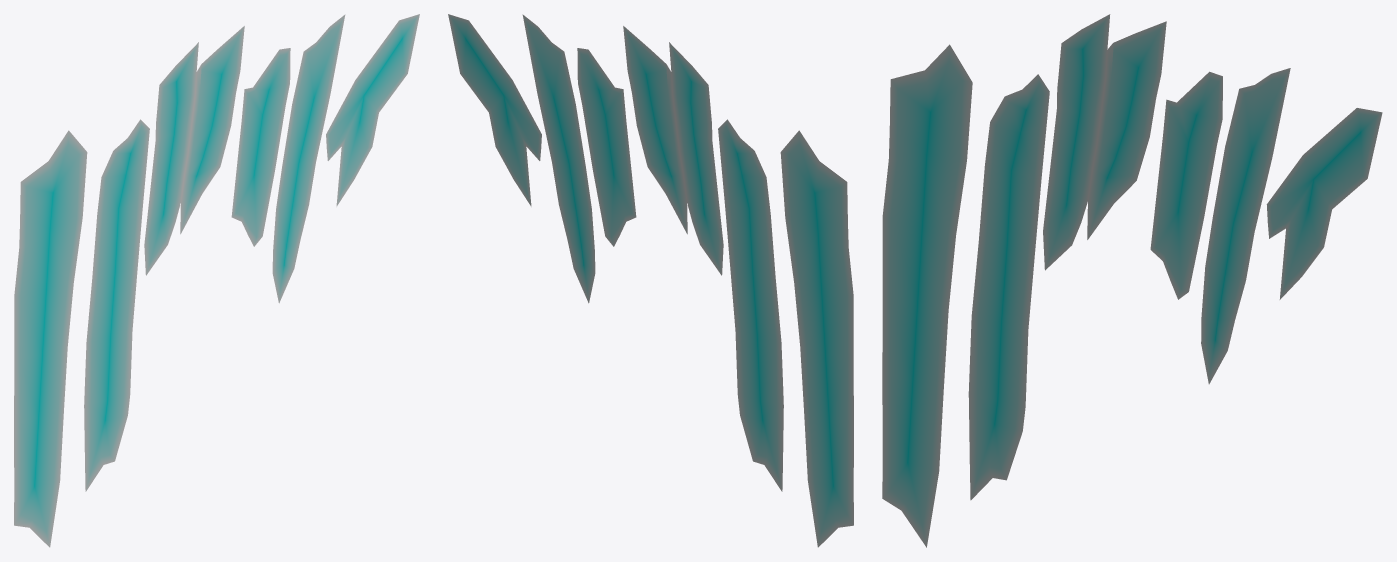
File: SM_EFF_Text_D35NJ2_02.glb
3 views of the same model, side by side, from view 1: azimuth 30°, elevation 25°; view 2: azimuth 150°, elevation 25°; view 3: azimuth 330°, elevation 25° (orthographic). The views are drawn at different scales.
Visible parts, largest first — view 1: SM_EFF_Text_D35NJ2_02; view 2: SM_EFF_Text_D35NJ2_02; view 3: SM_EFF_Text_D35NJ2_02.
Boxes of the visible parts, <box> form: SM_EFF_Text_D35NJ2_02: <box>14,14,419,547</box>; SM_EFF_Text_D35NJ2_02: <box>448,14,853,547</box>; SM_EFF_Text_D35NJ2_02: <box>882,14,1382,547</box>.
Size of the model in its own units: 2.65 by 2.97 by 1.82e-16.
